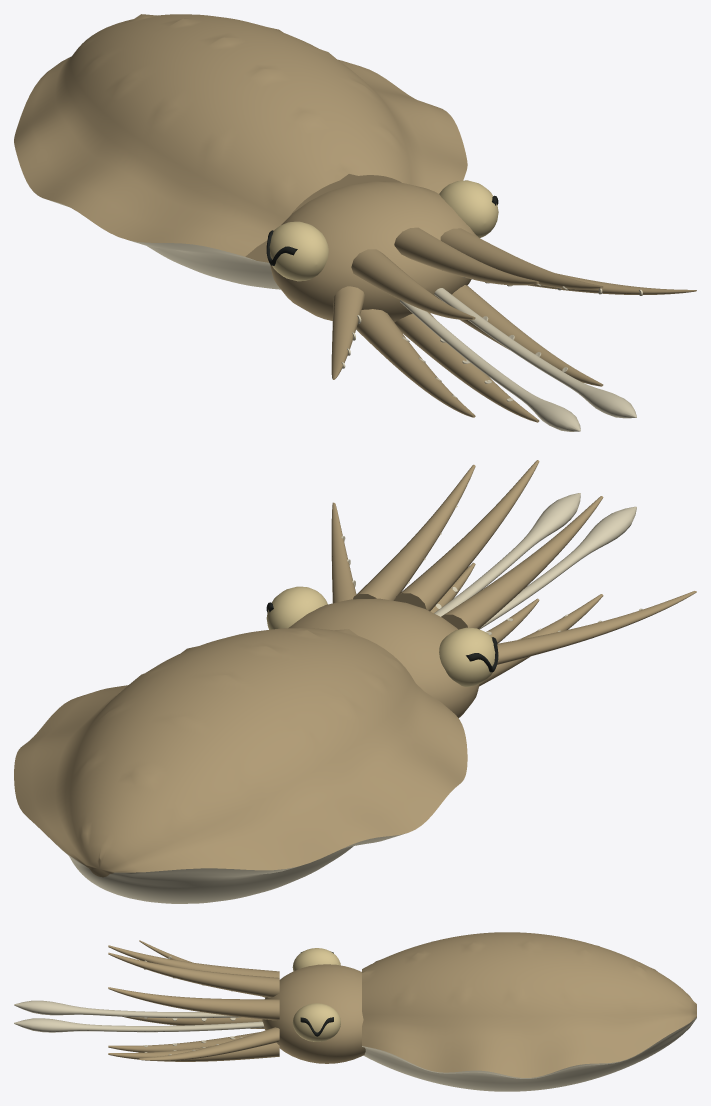
3 renders of one model, top to bottom at view 1: azimuth 30°, elevation 25°; view 2: azimuth 150°, elevation 25°; view 3: azimuth 270°, elevation 25°, orthographic. The views are drawn at different scales.
Parts seen in each view (by area): view 1: Broad_mantle_with_integrated_lateral_fin_skirt, Attached_head_and_closed_arm_crown, Arm_05_attached_complete_skin, Arm_02_attached_complete_skin, Arm_06_attached_complete_skin, Right_attached_feeding_tentacle_with_club, Arm_03_attached_complete_skin, Left_attached_feeding_tentacle_with_club, Arm_01_attached_complete_skin, Left_seated_eye, Arm_07_attached_complete_skin, Right_seated_eye (+2 smaller); view 2: Broad_mantle_with_integrated_lateral_fin_skirt, Attached_head_and_closed_arm_crown, Arm_02_attached_complete_skin, Arm_03_attached_complete_skin, Arm_01_attached_complete_skin, Arm_04_attached_complete_skin, Right_attached_feeding_tentacle_with_club, Left_seated_eye, Left_attached_feeding_tentacle_with_club, Right_seated_eye, Arm_00_attached_complete_skin, Arm_05_attached_complete_skin; view 3: Broad_mantle_with_integrated_lateral_fin_skirt, Attached_head_and_closed_arm_crown, Arm_01_attached_complete_skin, Arm_02_attached_complete_skin, Right_attached_feeding_tentacle_with_club, Left_attached_feeding_tentacle_with_club, Arm_00_attached_complete_skin, Right_seated_eye, Arm_07_attached_complete_skin, Arm_03_attached_complete_skin, Arm_06_attached_complete_skin, Arm_05_attached_complete_skin (+1 smaller).
Boxes of the visible parts, left/top/right/bottom form: Broad_mantle_with_integrated_lateral_fin_skirt: left=14, top=14, right=467, bottom=289; Attached_head_and_closed_arm_crown: left=270, top=181, right=478, bottom=322; Arm_05_attached_complete_skin: left=356, top=309, right=475, bottom=417; Arm_02_attached_complete_skin: left=394, top=227, right=539, bottom=285; Arm_06_attached_complete_skin: left=394, top=312, right=539, bottom=422; Right_attached_feeding_tentacle_with_club: left=434, top=288, right=636, bottom=418; Arm_03_attached_complete_skin: left=351, top=249, right=475, bottom=319; Left_attached_feeding_tentacle_with_club: left=400, top=300, right=580, bottom=431; Arm_01_attached_complete_skin: left=440, top=228, right=603, bottom=289; Left_seated_eye: left=269, top=221, right=328, bottom=281; Arm_07_attached_complete_skin: left=452, top=285, right=603, bottom=386; Right_seated_eye: left=439, top=180, right=498, bottom=237; Broad_mantle_with_integrated_lateral_fin_skirt: left=14, top=628, right=467, bottom=903; Attached_head_and_closed_arm_crown: left=288, top=598, right=479, bottom=718; Arm_02_attached_complete_skin: left=394, top=460, right=539, bottom=611; Arm_03_attached_complete_skin: left=441, top=496, right=603, bottom=629; Arm_01_attached_complete_skin: left=353, top=464, right=475, bottom=600; Arm_04_attached_complete_skin: left=497, top=591, right=696, bottom=664; Right_attached_feeding_tentacle_with_club: left=434, top=493, right=580, bottom=616; Left_seated_eye: left=439, top=627, right=498, bottom=686; Left_attached_feeding_tentacle_with_club: left=479, top=506, right=636, bottom=629; Right_seated_eye: left=266, top=586, right=327, bottom=629; Arm_00_attached_complete_skin: left=331, top=502, right=356, bottom=603; Arm_05_attached_complete_skin: left=479, top=594, right=603, bottom=686; Broad_mantle_with_integrated_lateral_fin_skirt: left=362, top=932, right=696, bottom=1091; Attached_head_and_closed_arm_crown: left=262, top=964, right=365, bottom=1063; Arm_01_attached_complete_skin: left=108, top=987, right=279, bottom=1020; Arm_02_attached_complete_skin: left=108, top=952, right=279, bottom=997; Right_attached_feeding_tentacle_with_club: left=14, top=1018, right=264, bottom=1032; Left_attached_feeding_tentacle_with_club: left=14, top=1000, right=240, bottom=1018; Arm_00_attached_complete_skin: left=139, top=1027, right=279, bottom=1060; Right_seated_eye: left=292, top=1003, right=340, bottom=1041; Arm_07_attached_complete_skin: left=108, top=1042, right=279, bottom=1061; Arm_03_attached_complete_skin: left=108, top=945, right=279, bottom=977; Arm_06_attached_complete_skin: left=108, top=1032, right=259, bottom=1052; Arm_05_attached_complete_skin: left=122, top=1016, right=264, bottom=1028.
Bounding box in the file's own units: 0.384 × 0.1928 × 0.877.
